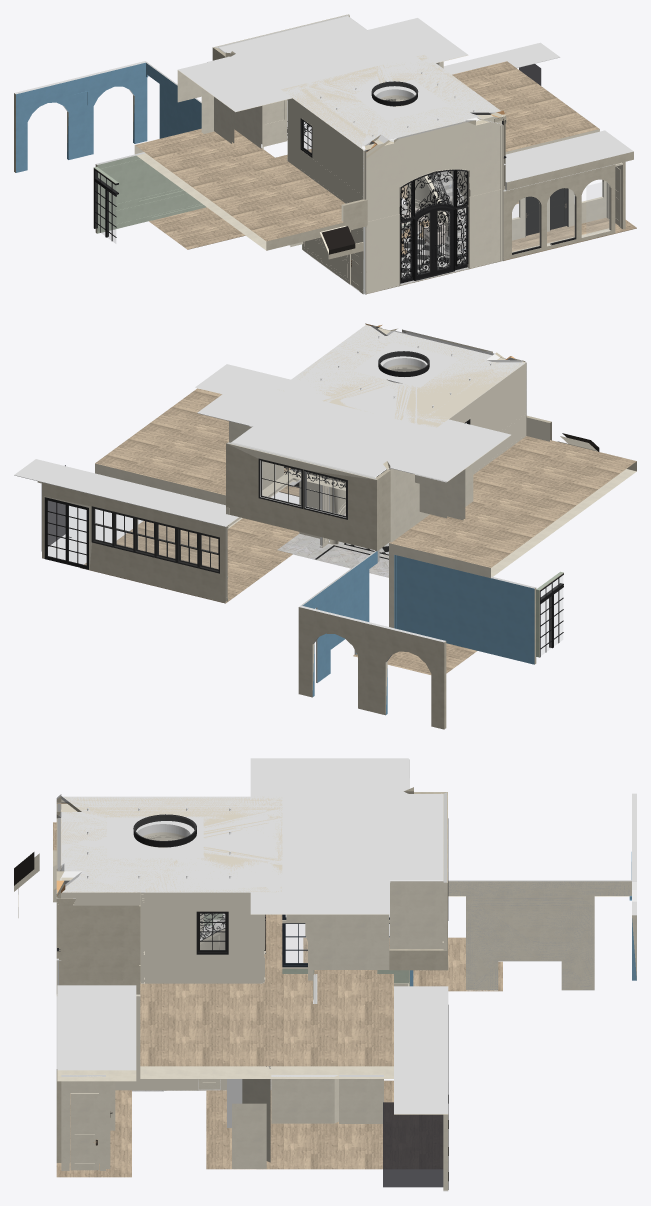
The model's file is entry-cbbafce830ae.glb.
The picture shows the model from 3 angles, top to bottom: view 1: azimuth 30°, elevation 25°; view 2: azimuth 150°, elevation 25°; view 3: azimuth 270°, elevation 25°; orthographic projection. The views are drawn at different scales.
Visible parts, largest first — view 1: entry-look-2575515a05775d9e, entry-look-9d91b47435c6fb33, entry-9d91b47435c6fb33, entry-4edf3a9420c06709, entry-look-969b861f9850351e, entry-e8793759323e04f0, entry-9ca48b730e5de4b2, entry-look-b19b106fc304963c, entry-746250f96522f643, entry-look-dbd60ee5c3733ed6, entry-look-c9e78b9ec1bb39cd, entry-785988ccf932ddd5 (+36 smaller); view 2: entry-look-2575515a05775d9e, entry-look-9d91b47435c6fb33, entry-look-b19b106fc304963c, entry-9d91b47435c6fb33, entry-look-969b861f9850351e, entry-look-245f595ae2832e16, entry-look-3b0077416469e01b, entry-look-bfb9fa537cd11d1d, entry-e8793759323e04f0, entry-look-9a0e9ee9b2a451d7, entry-746250f96522f643, entry-look-3e6709f91b43c3bf (+19 smaller); view 3: entry-look-2575515a05775d9e, entry-look-9d91b47435c6fb33, entry-9d91b47435c6fb33, entry-look-3e6709f91b43c3bf, entry-look-3b0077416469e01b, entry-c51ecd664a3b22a3, entry-look-dbd60ee5c3733ed6, entry-e8793759323e04f0, entry-look-9a0e9ee9b2a451d7, entry-62353aa10fc57f23, entry-look-cbd4bf73d9724a66, entry-look-55ff1dfd7b659ec1 (+22 smaller).
Part boxes in pixels (x1,y1,x2,y2): entry-look-2575515a05775d9e: (134,61,599,250); entry-look-9d91b47435c6fb33: (178,16,468,112); entry-9d91b47435c6fb33: (282,54,500,149); entry-4edf3a9420c06709: (365,120,503,221); entry-look-969b861f9850351e: (14,61,147,172); entry-e8793759323e04f0: (281,55,499,149); entry-9ca48b730e5de4b2: (365,189,503,293); entry-look-b19b106fc304963c: (95,152,202,233); entry-746250f96522f643: (287,98,361,203); entry-look-dbd60ee5c3733ed6: (505,130,633,190); entry-look-c9e78b9ec1bb39cd: (503,164,615,260); entry-785988ccf932ddd5: (366,118,503,220); entry-look-2575515a05775d9e: (95,388,636,578); entry-look-9d91b47435c6fb33: (197,371,510,481); entry-look-b19b106fc304963c: (397,555,536,664); entry-9d91b47435c6fb33: (277,325,525,428); entry-look-969b861f9850351e: (298,605,446,729); entry-look-245f595ae2832e16: (226,442,376,551); entry-look-3b0077416469e01b: (80,518,476,674); entry-look-bfb9fa537cd11d1d: (42,482,227,602); entry-e8793759323e04f0: (279,325,525,427); entry-look-9a0e9ee9b2a451d7: (14,459,238,526); entry-746250f96522f643: (449,364,524,474); entry-look-3e6709f91b43c3bf: (302,551,377,682); entry-look-2575515a05775d9e: (53,822,393,1078); entry-look-9d91b47435c6fb33: (250,758,442,914); entry-9d91b47435c6fb33: (61,796,282,892); entry-look-3e6709f91b43c3bf: (448,880,631,989); entry-look-3b0077416469e01b: (206,937,502,1169); entry-c51ecd664a3b22a3: (145,892,264,983); entry-look-dbd60ee5c3733ed6: (57,985,136,1081); entry-e8793759323e04f0: (58,794,282,892); entry-look-9a0e9ee9b2a451d7: (394,986,448,1114); entry-62353aa10fc57f23: (71,892,140,996); entry-look-cbd4bf73d9724a66: (383,1102,443,1187); entry-look-55ff1dfd7b659ec1: (448,880,631,990).
Bounding box in the file's own units: 21.07 × 7.02 × 18.
Materials: 68 (11 with a texture image).
